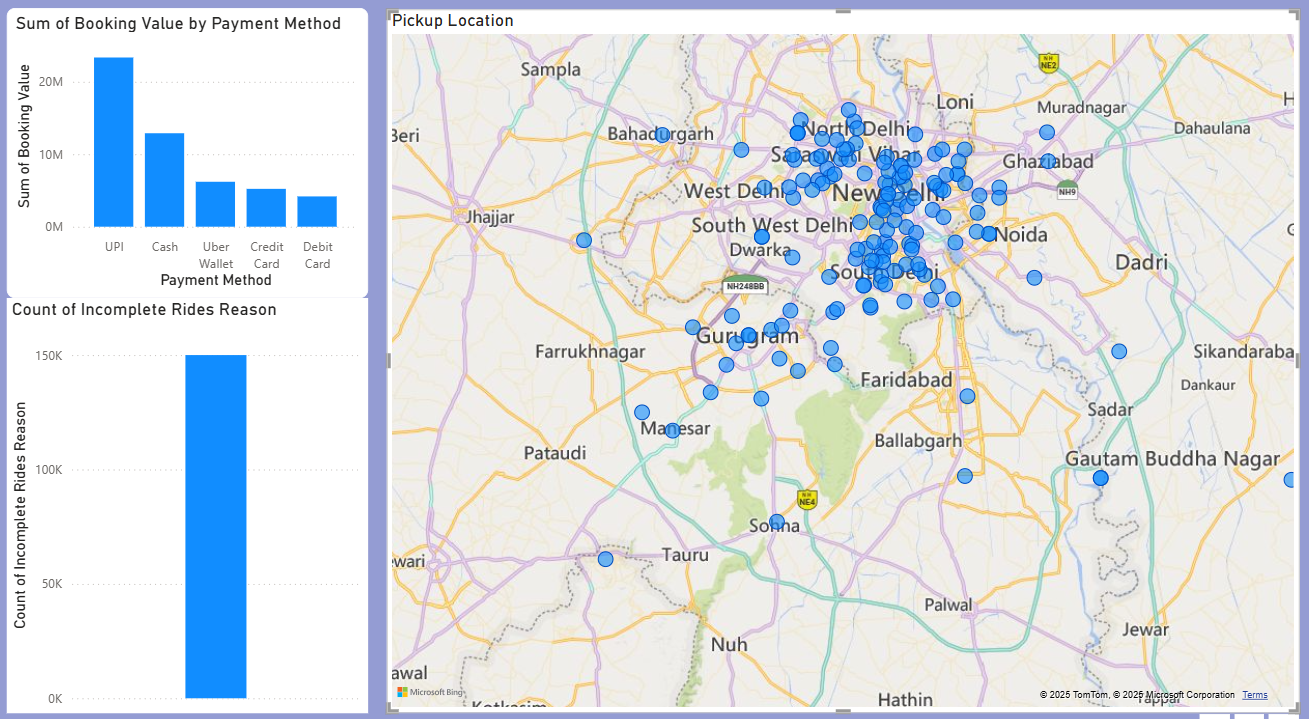

The page's visual inventory and layout, read from the dashboard file:
{"tool":"powerbi","page":{"name":"Page 2","canvas":[1280,720],"ordinal":1},"visuals":[{"type":"columnChart","fields":{"Category":["group3_dataset.Payment Method"],"Y":["Sum(group3_dataset.Booking Value)"]},"box":[13.3,14.5,348.7,279.9],"z":0},{"type":"map","fields":{"Category":["group3_dataset.Pickup Location"]},"box":[380.3,15.9,880.4,678.7],"z":1000},{"type":"columnChart","fields":{"Y":["CountNonNull(group3_dataset.Incomplete Rides Reason)"]},"box":[13.3,294.4,348.7,400.5],"z":2000}]}

Visuals, with their boxes in screenshot pixels (x1, y1, x2, y2), scaled from the page's 1280x720 canvas onto the 1309x719 screenshot:
columnChart - group3_dataset.Payment Method x Sum(group3_dataset.Booking Value): Rect(14, 14, 370, 294)
map - group3_dataset.Pickup Location: Rect(389, 16, 1289, 694)
columnChart - CountNonNull(group3_dataset.Incomplete Rides Reason): Rect(14, 294, 370, 694)
